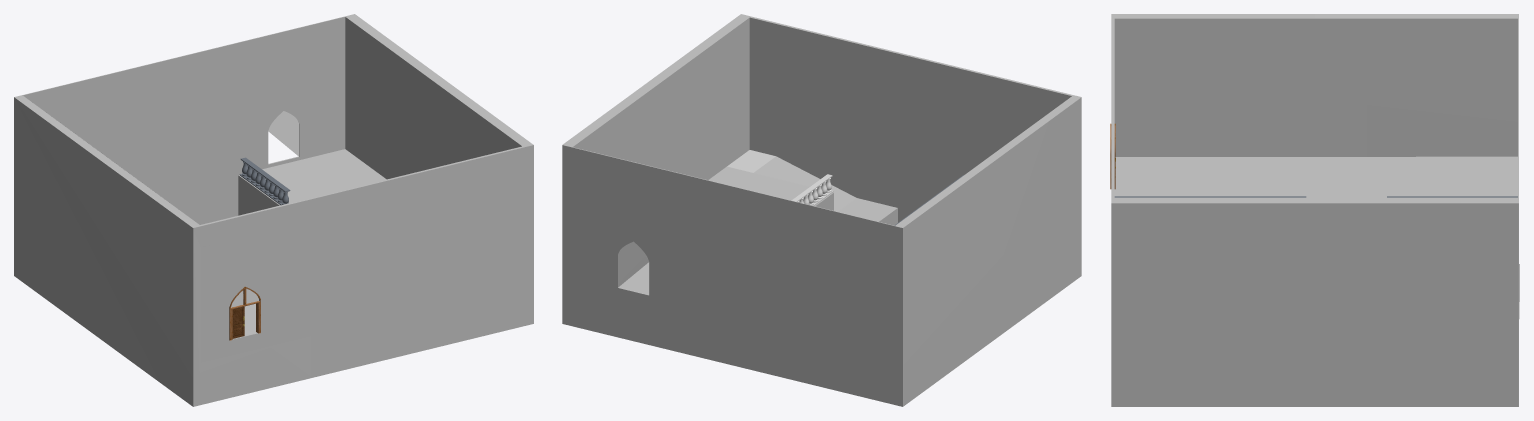
Rendered from Room2.fbx.
The picture shows the model from 3 angles, left to right: view 1: azimuth 30°, elevation 25°; view 2: azimuth 150°, elevation 25°; view 3: azimuth 270°, elevation 25°; orthographic projection. The views are drawn at different scales.
Parts seen in each view (by area): view 1: OuterShell.001, UpperFence, DoorFrame.001; view 2: OuterShell.001, MidFence.002; view 3: OuterShell.001, MidFence.003.
Boxes of the visible parts, <box> form: OuterShell.001: <box>14,14,533,406</box>; UpperFence: <box>239,157,290,205</box>; DoorFrame.001: <box>229,286,260,340</box>; OuterShell.001: <box>562,14,1081,406</box>; MidFence.002: <box>792,174,833,205</box>; OuterShell.001: <box>1111,14,1519,406</box>; MidFence.003: <box>1114,196,1306,197</box>.
Size of the model in its own units: 2501 by 1254 by 2285.
